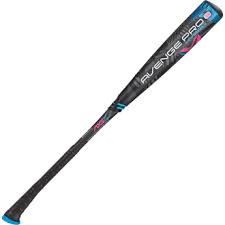baseball bat: (2, 1, 224, 225)
